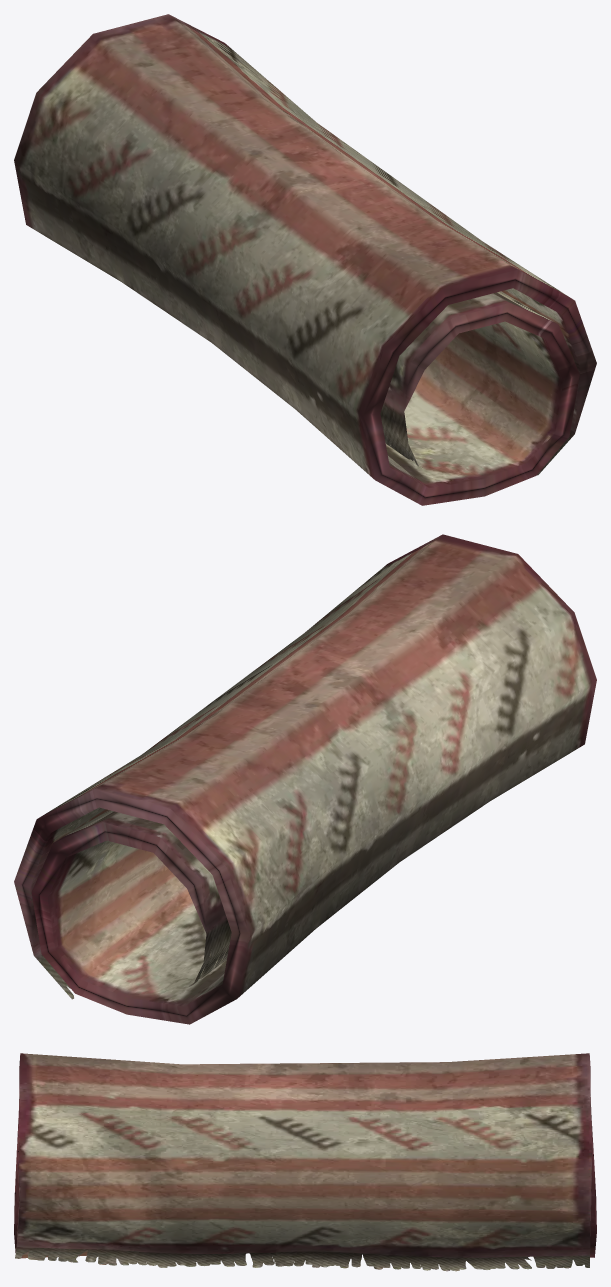
3 views of the same model, one above another, from view 1: azimuth 30°, elevation 25°; view 2: azimuth 150°, elevation 25°; view 3: azimuth 270°, elevation 25° (orthographic). The views are drawn at different scales.
Visible parts, largest first — view 1: SM_Moon_Garou_Decoration_Carpet_02v3_LOD0; view 2: SM_Moon_Garou_Decoration_Carpet_02v3_LOD0; view 3: SM_Moon_Garou_Decoration_Carpet_02v3_LOD0.
Part boxes in pixels (<box>): SM_Moon_Garou_Decoration_Carpet_02v3_LOD0: <box>14,14,596,505</box>; SM_Moon_Garou_Decoration_Carpet_02v3_LOD0: <box>14,534,596,1024</box>; SM_Moon_Garou_Decoration_Carpet_02v3_LOD0: <box>14,1053,596,1271</box>.
Bounding box in the file's own units: 0.3874 × 0.3568 × 1.02.
1 material, 1 textured.
